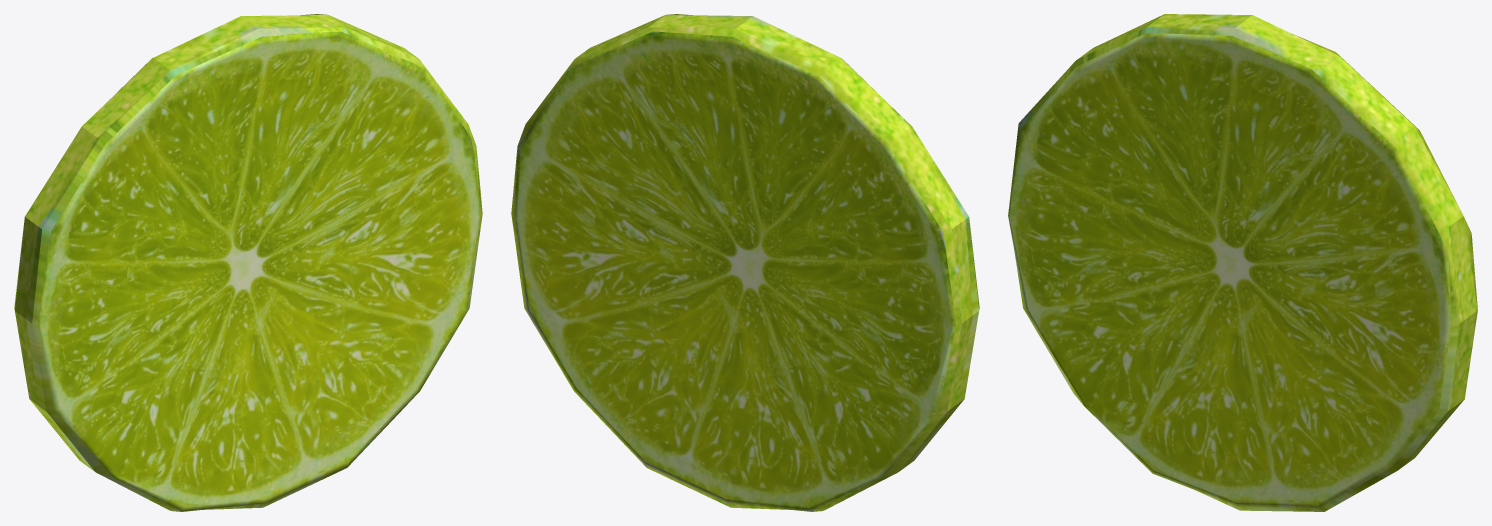
The model's file is FreshLime.fbx.
The picture shows the model from 3 angles, left to right: view 1: azimuth 30°, elevation 25°; view 2: azimuth 150°, elevation 25°; view 3: azimuth 330°, elevation 25°; orthographic projection.
Visible parts, largest first — view 1: FreshLime; view 2: FreshLime; view 3: FreshLime.
Boxes of the visible parts, x1,y1,x2,y2 form: FreshLime: [14, 14, 482, 511]; FreshLime: [511, 14, 979, 511]; FreshLime: [1008, 14, 1477, 511].
Bounding box in the file's own units: 0.0373 × 0.038 × 0.00376.
Materials: 1 (1 with a texture image).
